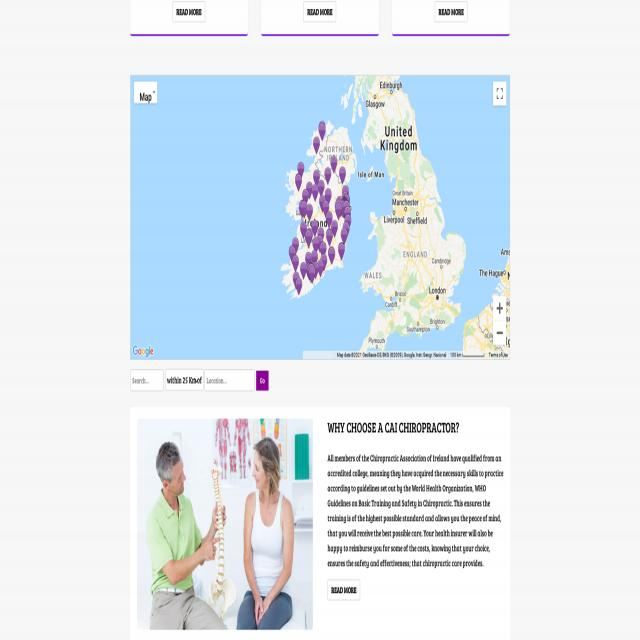button: (137, 419, 313, 630), (173, 1, 205, 22), (304, 1, 336, 22), (435, 1, 467, 22), (328, 579, 360, 600), (134, 81, 157, 104), (493, 83, 508, 106), (132, 344, 154, 359), (494, 296, 506, 321), (256, 370, 269, 391), (494, 323, 506, 344), (317, 122, 327, 142), (296, 160, 306, 180), (311, 168, 321, 188), (293, 172, 303, 192), (316, 178, 326, 198), (304, 180, 314, 200), (310, 182, 320, 202), (297, 198, 307, 218), (333, 198, 343, 218), (336, 198, 346, 218), (339, 198, 349, 218), (340, 198, 350, 218), (341, 198, 351, 218), (304, 202, 314, 222), (329, 218, 339, 238), (341, 220, 351, 240), (318, 240, 328, 260), (336, 240, 346, 260), (303, 250, 313, 270), (319, 252, 329, 272), (315, 258, 325, 278), (298, 260, 308, 280), (306, 260, 316, 280), (291, 270, 301, 290), (294, 276, 304, 296), (317, 121, 327, 140), (329, 154, 339, 173), (337, 165, 347, 184), (323, 166, 333, 185), (293, 172, 303, 191), (340, 184, 350, 203), (323, 187, 333, 206), (340, 190, 350, 209), (341, 192, 351, 211), (341, 193, 351, 212), (334, 195, 344, 214), (339, 195, 349, 214), (339, 197, 349, 216), (340, 197, 350, 216), (297, 199, 307, 218), (321, 199, 331, 218), (338, 199, 348, 218), (340, 199, 350, 218), (341, 199, 351, 218), (333, 201, 343, 220), (342, 204, 352, 223), (343, 212, 353, 231), (343, 213, 353, 232), (310, 218, 320, 237), (298, 220, 308, 239), (316, 226, 326, 245), (304, 227, 314, 246), (339, 227, 349, 246), (324, 227, 334, 246), (303, 228, 313, 247), (290, 236, 300, 255), (287, 244, 297, 263), (287, 245, 297, 264), (326, 245, 336, 264), (309, 249, 319, 268), (307, 260, 317, 279), (310, 260, 320, 279), (305, 262, 315, 281), (306, 262, 316, 281), (307, 265, 317, 284), (317, 120, 327, 138), (311, 136, 321, 154), (300, 188, 310, 206), (317, 194, 327, 212), (336, 196, 346, 214), (339, 196, 349, 214), (340, 196, 350, 214), (339, 198, 349, 216), (340, 198, 350, 216), (299, 200, 309, 218), (324, 210, 334, 228), (303, 228, 313, 246), (324, 228, 334, 246), (315, 234, 325, 252), (311, 236, 321, 254), (336, 242, 346, 260), (327, 246, 337, 264), (290, 254, 300, 272), (304, 262, 314, 280), (306, 262, 316, 280)
field: (204, 369, 254, 391), (165, 369, 203, 391), (130, 369, 164, 391)
